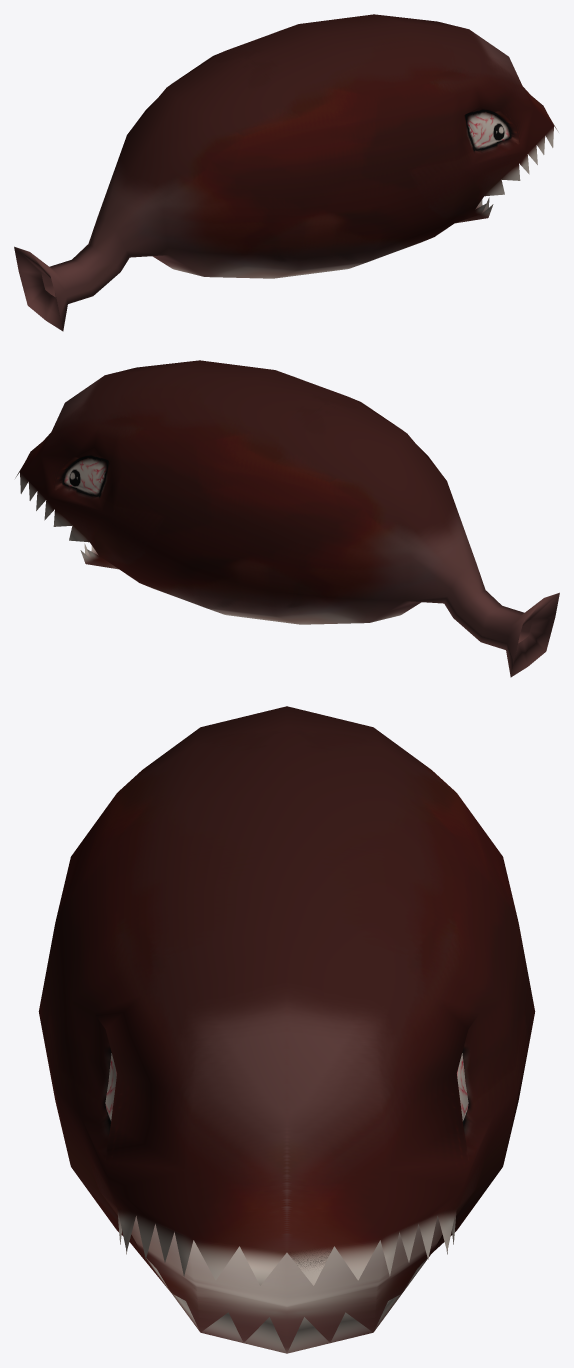
Rendered from SeaMonster.fbx.
3 views of the same model, one above another, from view 1: azimuth 30°, elevation 25°; view 2: azimuth 150°, elevation 25°; view 3: azimuth 270°, elevation 25° (orthographic). The views are drawn at different scales.
Visible parts, largest first — view 1: Cube; view 2: Cube; view 3: Cube.
Part boxes in pixels (bbox=[...]): Cube: bbox=[14, 14, 558, 331]; Cube: bbox=[15, 360, 559, 677]; Cube: bbox=[38, 706, 535, 1353].
Bounding box in the file's own units: 4.04 × 1.68 × 1.69.
Materials: 1 (1 with a texture image).
